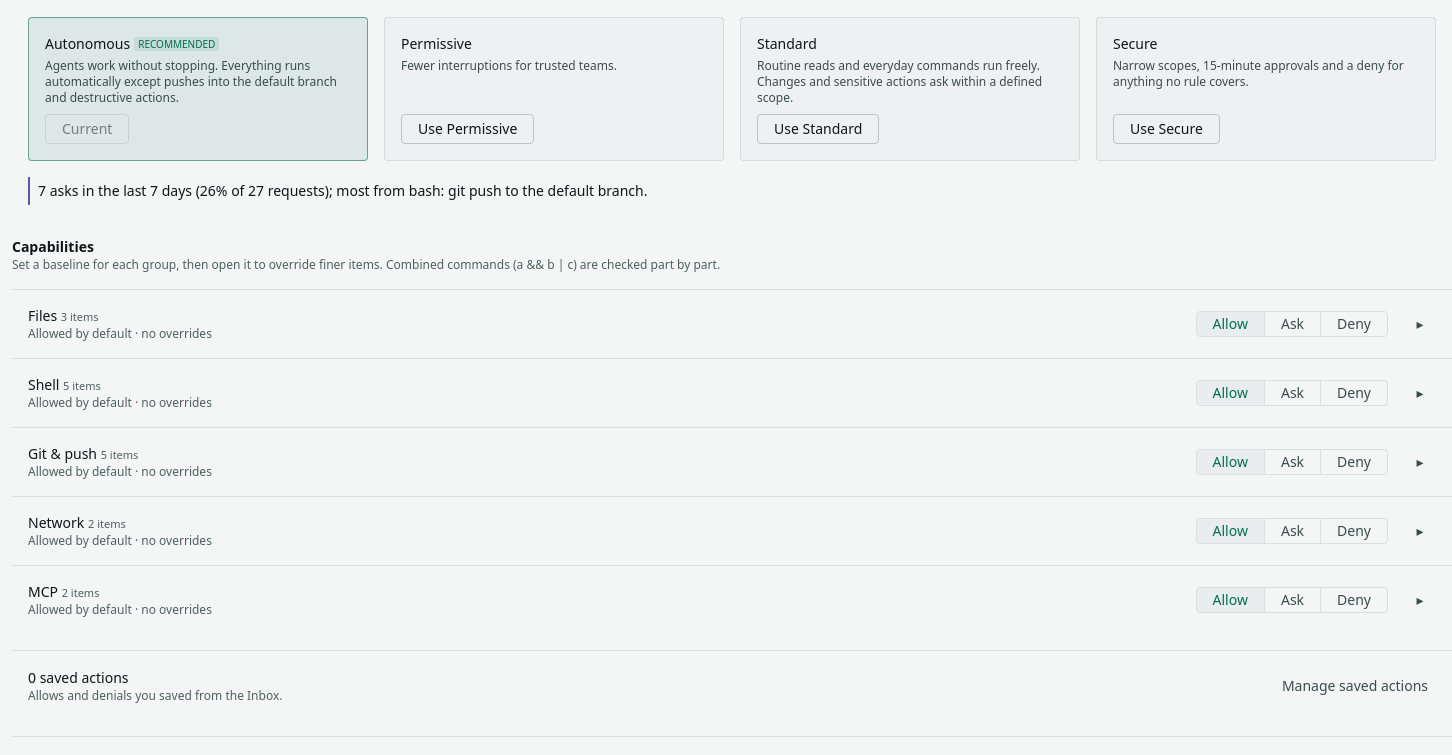
Scenario: settings screen › permissions: groups are the default view with the preset and ask rate; a group baseline and a subcategory override save through the groups API and show their ma
The width and height of the screenshot is (1452, 755).
(page scrolled)
Expected: the element that starts with "Autonomous" shows "RECOMMENDED", x1=138 y1=37 x2=215 y2=51
A group's baseline: one click, sent as the group's baseline only.
Click the button "Deny" in the row of "Shell" at (1354, 393), box x1=1320 y1=381 x2=1387 y2=405
(page scrolled)
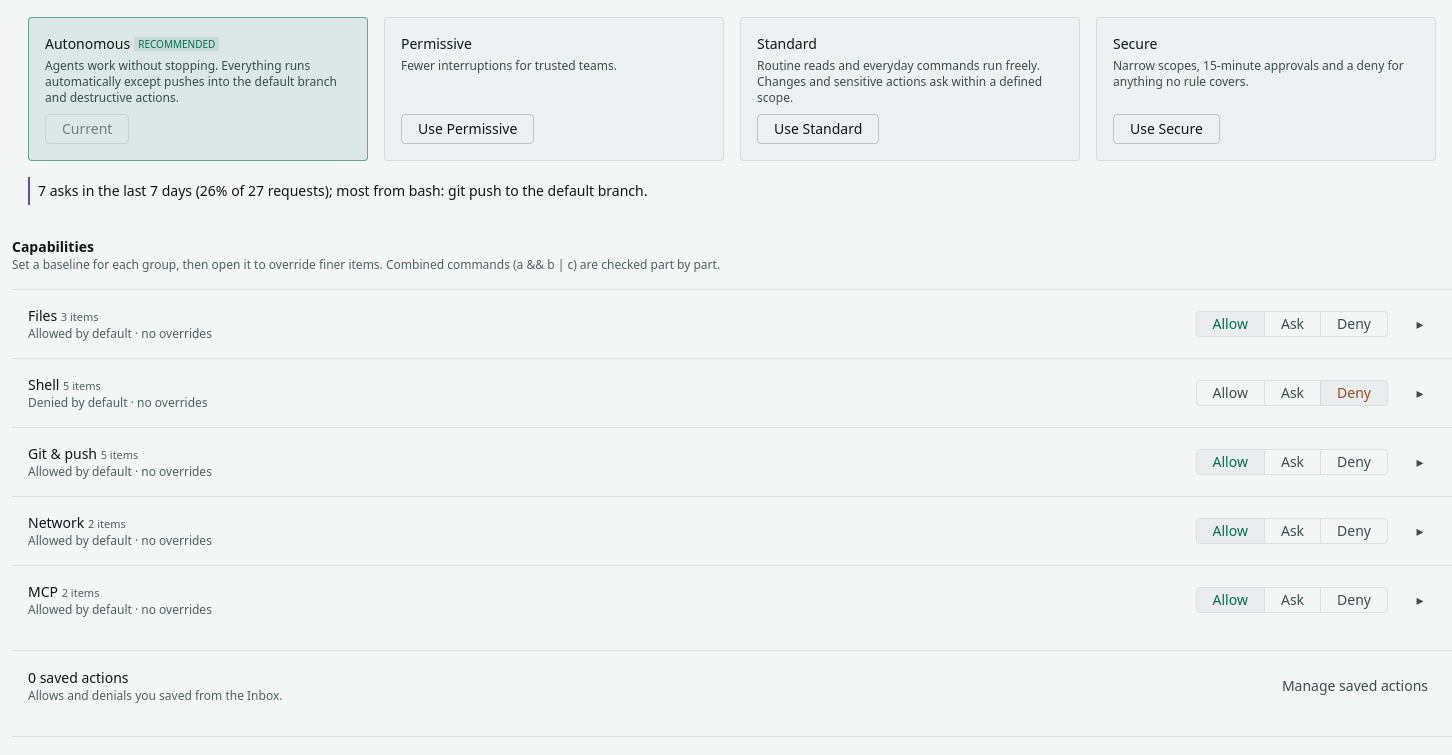
Open it: a subcategory overrides the group, marked while it does.
Click the button named "Show Shell items" at (1420, 393), box x1=1404 y1=377 x2=1436 y2=409
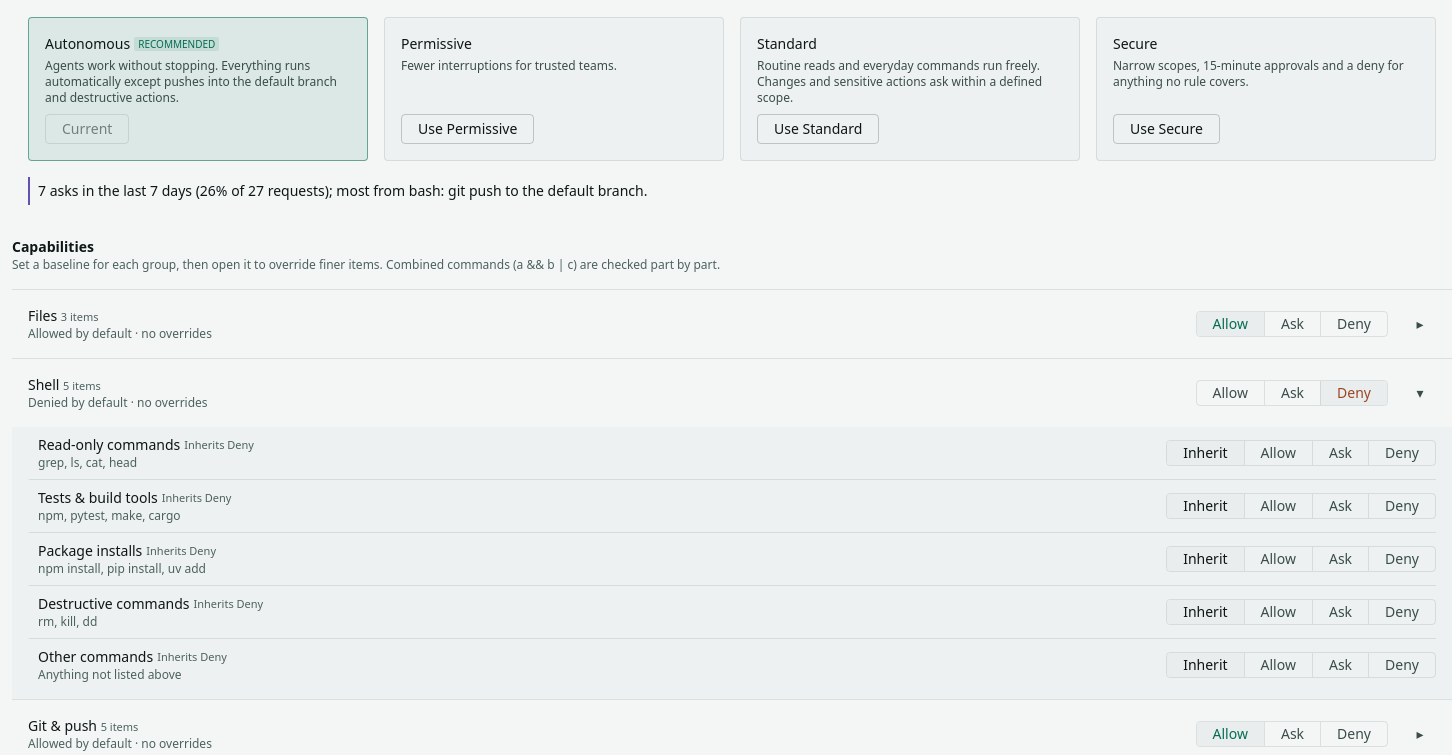
Click the button "Ask" in the row of "npm install, pip install, uv add" at (1340, 559), box x1=1312 y1=547 x2=1368 y2=571
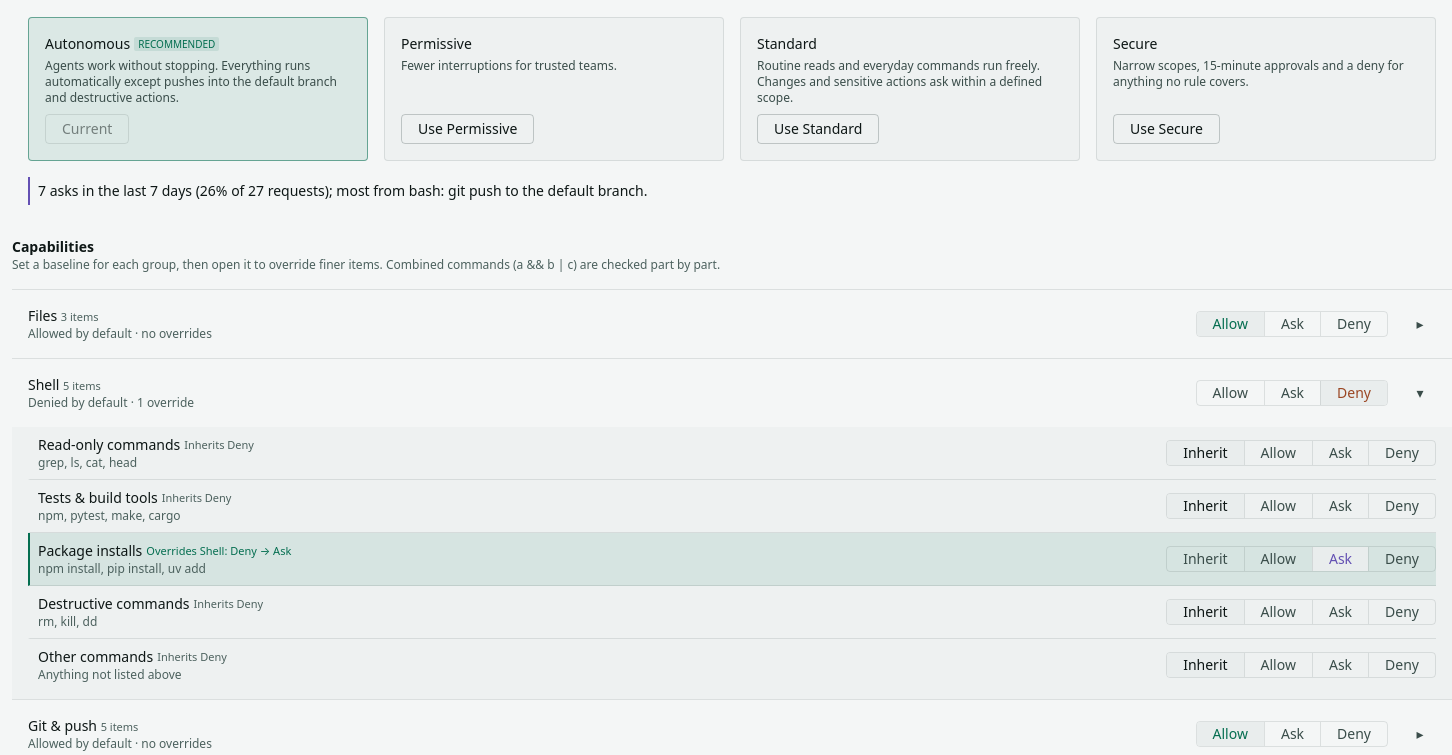
Now the text "Overrides Shell: Deny → Ask" is shown, box x1=146 y1=543 x2=291 y2=559
